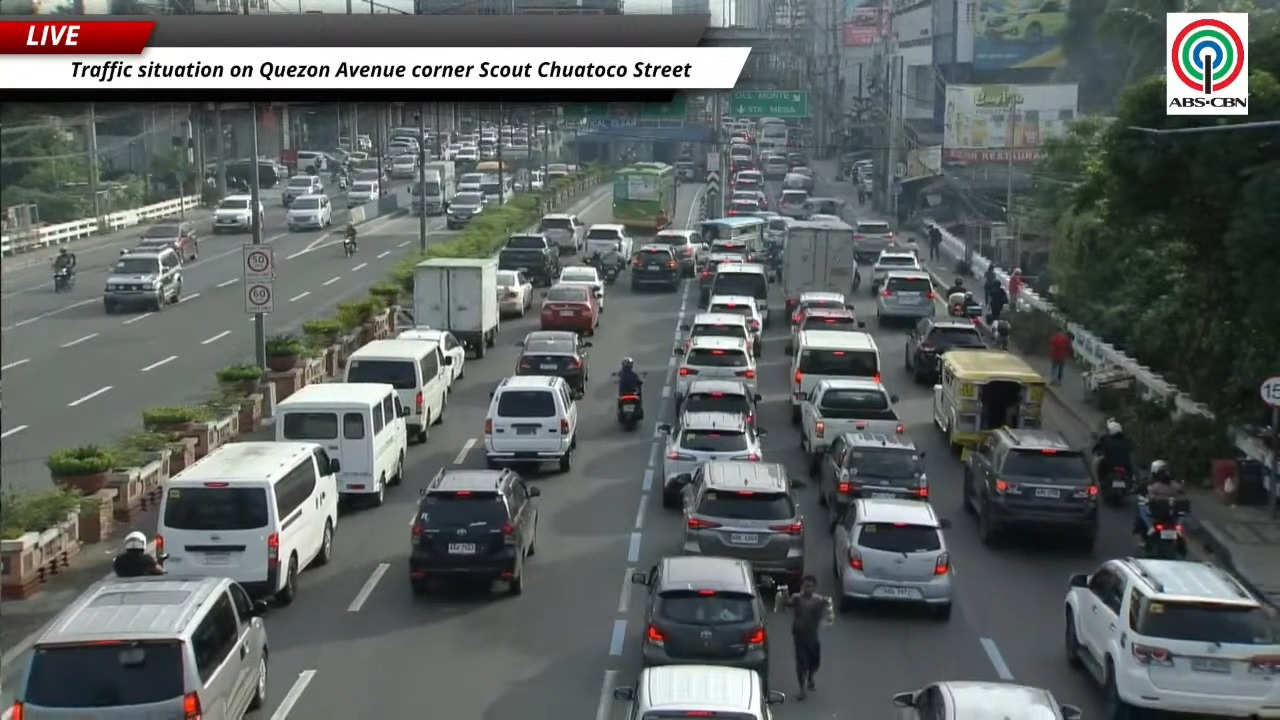bus: (612, 162, 675, 232)
car: (3, 576, 268, 719), (1064, 559, 1279, 719), (676, 460, 805, 591), (963, 427, 1099, 549), (409, 468, 540, 594), (632, 556, 768, 677), (833, 498, 953, 618), (657, 409, 764, 507), (817, 432, 928, 518), (613, 664, 785, 719), (483, 376, 578, 472), (893, 681, 1082, 719), (675, 336, 757, 402), (904, 317, 987, 382), (103, 247, 182, 313), (516, 330, 591, 396), (396, 327, 465, 386), (679, 379, 760, 426), (785, 307, 864, 353), (706, 295, 762, 357), (674, 312, 755, 354), (875, 270, 936, 325), (503, 233, 560, 286), (539, 284, 599, 334), (698, 246, 745, 306), (646, 230, 703, 276), (137, 221, 198, 261), (631, 244, 683, 290), (498, 248, 559, 286), (555, 265, 605, 311), (585, 223, 633, 270), (870, 251, 921, 294), (787, 291, 847, 325), (537, 213, 585, 253), (496, 270, 533, 316), (854, 220, 895, 261), (286, 194, 331, 230), (446, 191, 486, 229), (213, 195, 251, 233), (281, 175, 323, 206), (806, 196, 849, 221), (709, 239, 754, 262), (778, 189, 808, 218), (765, 214, 789, 250), (346, 181, 379, 207), (390, 146, 416, 178), (730, 188, 767, 209), (354, 163, 389, 184), (782, 171, 814, 192), (787, 152, 812, 176), (763, 155, 788, 179), (727, 199, 762, 215), (733, 170, 764, 188), (454, 147, 479, 165)
motorcycle: (1139, 496, 1189, 559), (1100, 466, 1132, 505), (948, 293, 983, 324), (617, 392, 643, 430), (618, 394, 640, 430), (53, 267, 74, 291), (601, 265, 618, 285), (343, 235, 356, 257), (336, 175, 348, 190)
truck: (799, 379, 903, 473), (412, 258, 499, 358), (781, 219, 860, 314), (411, 160, 456, 215)
